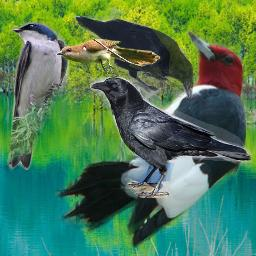Crow: (90, 77, 252, 198), (74, 16, 193, 98)
Cuckoo: (56, 39, 161, 76)
Swallow: (5, 21, 69, 170)
Woodpecker: (55, 30, 246, 248)
